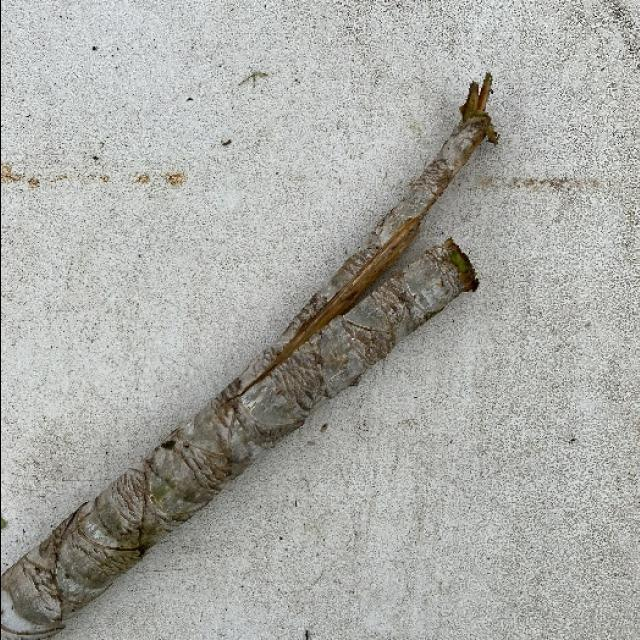organik: (0, 86, 545, 640)
